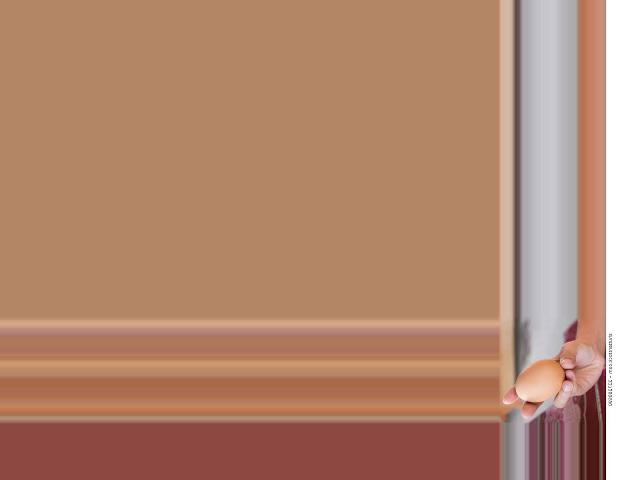egg: (515, 360, 564, 403)
